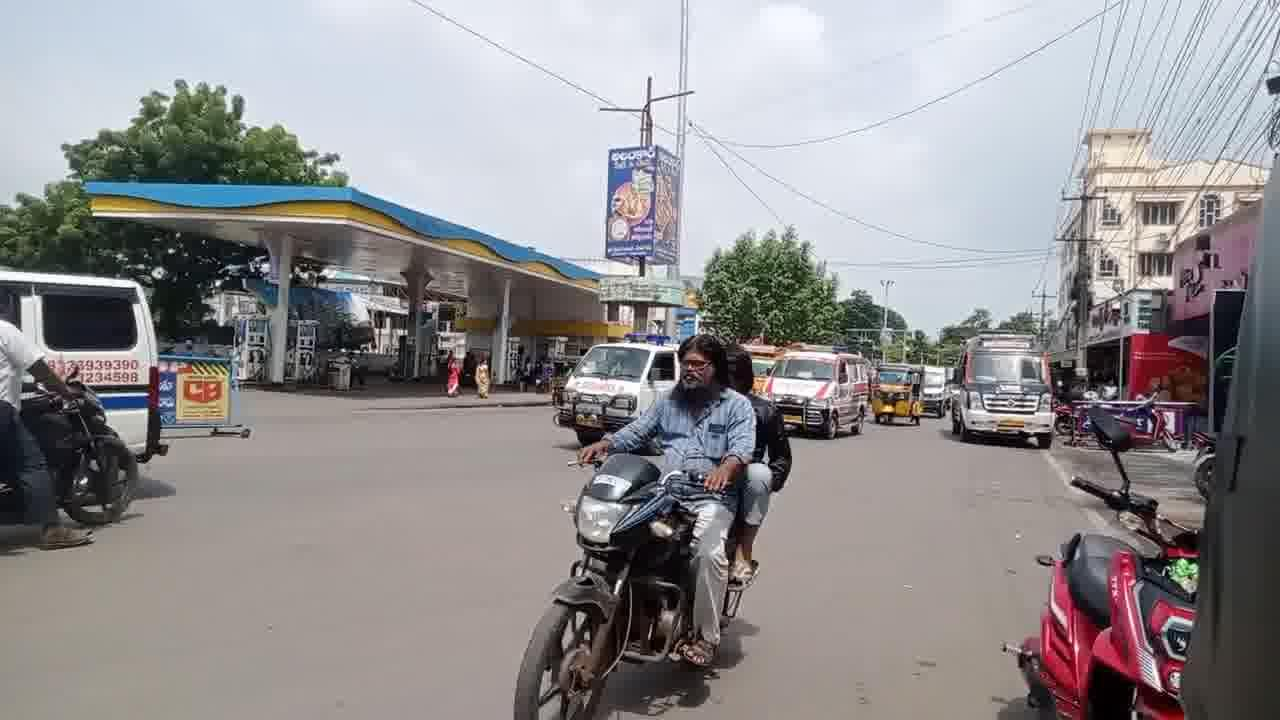AMBULANCE: (36, 291, 191, 420), (956, 326, 1050, 461), (776, 331, 864, 465), (538, 331, 667, 411), (923, 359, 951, 420)
